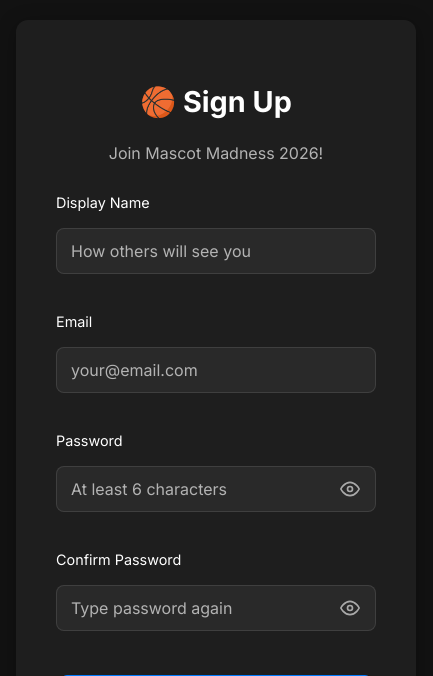
Test: Signup Page › shows validation error for password mismatch
// Fill all fields but mismatch passwords
Type "User" into the field labelled "Display Name" at (216, 251), box [56,228,376,274]
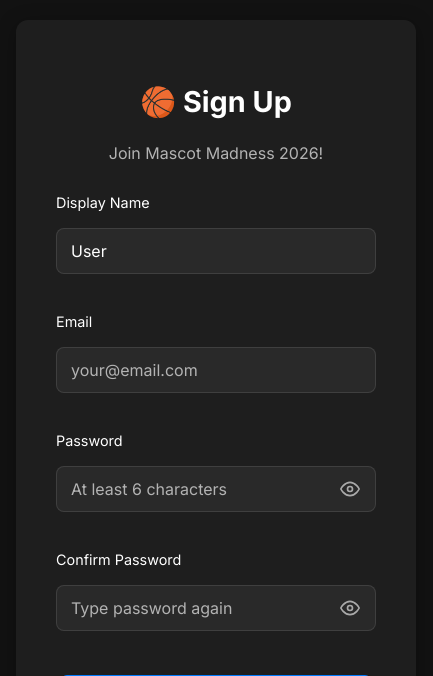
Type "test@example.com" into the field labelled "Email" at (216, 370), box [56,347,376,393]
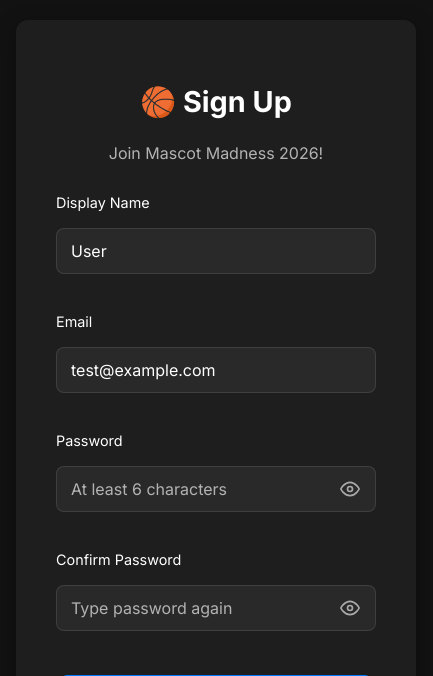
Type "password123" into the password field labelled "Password" at (216, 489), box [56,466,376,512]
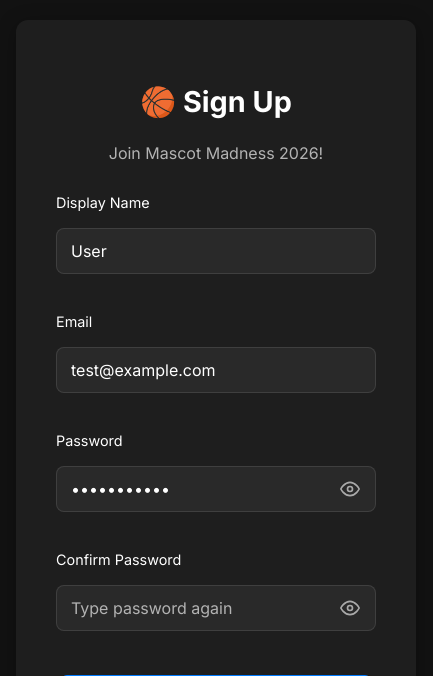
Type "password999" into the password field labelled "Confirm Password" at (216, 608), box [56,585,376,631]
(page scrolled)
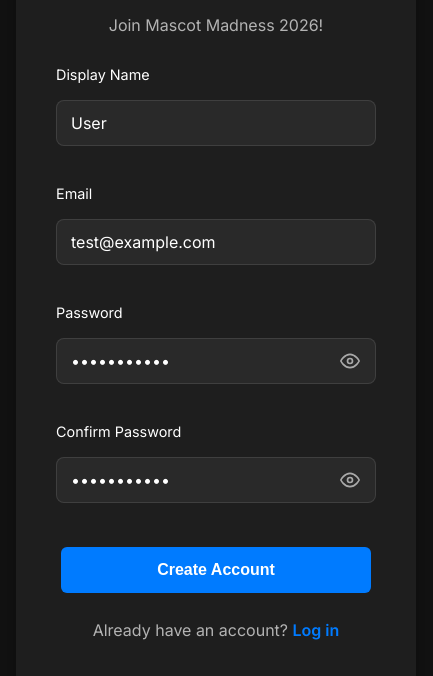
Click the button "Create Account" at (216, 570), box [61,547,371,593]
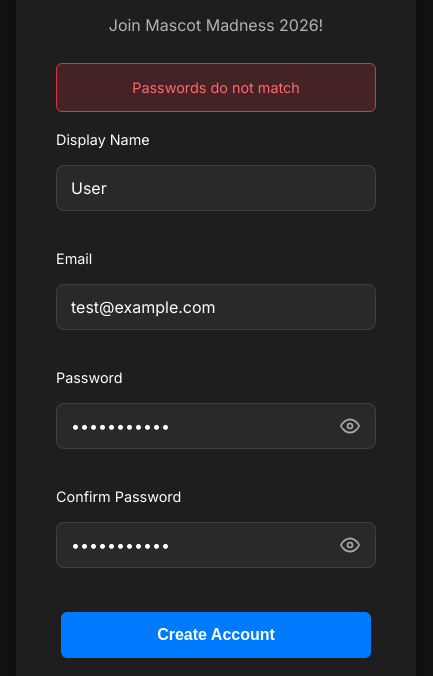
Result: the text "Passwords do not match" is shown at [56,63,376,112]
